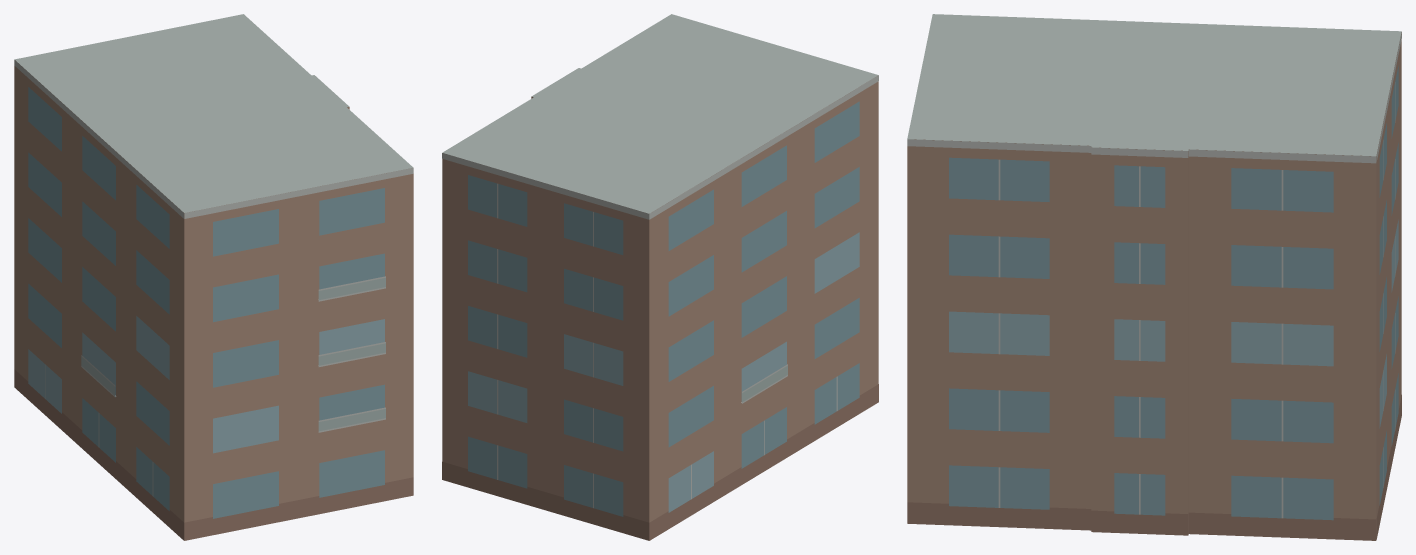
The model's file is survey-upis-32566582.glb.
3 renders of one model, left to right at view 1: azimuth 30°, elevation 25°; view 2: azimuth 150°, elevation 25°; view 3: azimuth 270°, elevation 25°, orthographic. The views are drawn at different scales.
Visible parts, largest first — view 1: survey-upis-32566582.tmp; view 2: survey-upis-32566582.tmp; view 3: survey-upis-32566582.tmp.
Part boxes in pixels (x1=…): survey-upis-32566582.tmp: x1=14, y1=14, x2=413, y2=540; survey-upis-32566582.tmp: x1=442, y1=14, x2=878, y2=540; survey-upis-32566582.tmp: x1=907, y1=14, x2=1401, y2=540.
Size of the model in its own units: 10.56 by 13.3 by 15.51.
